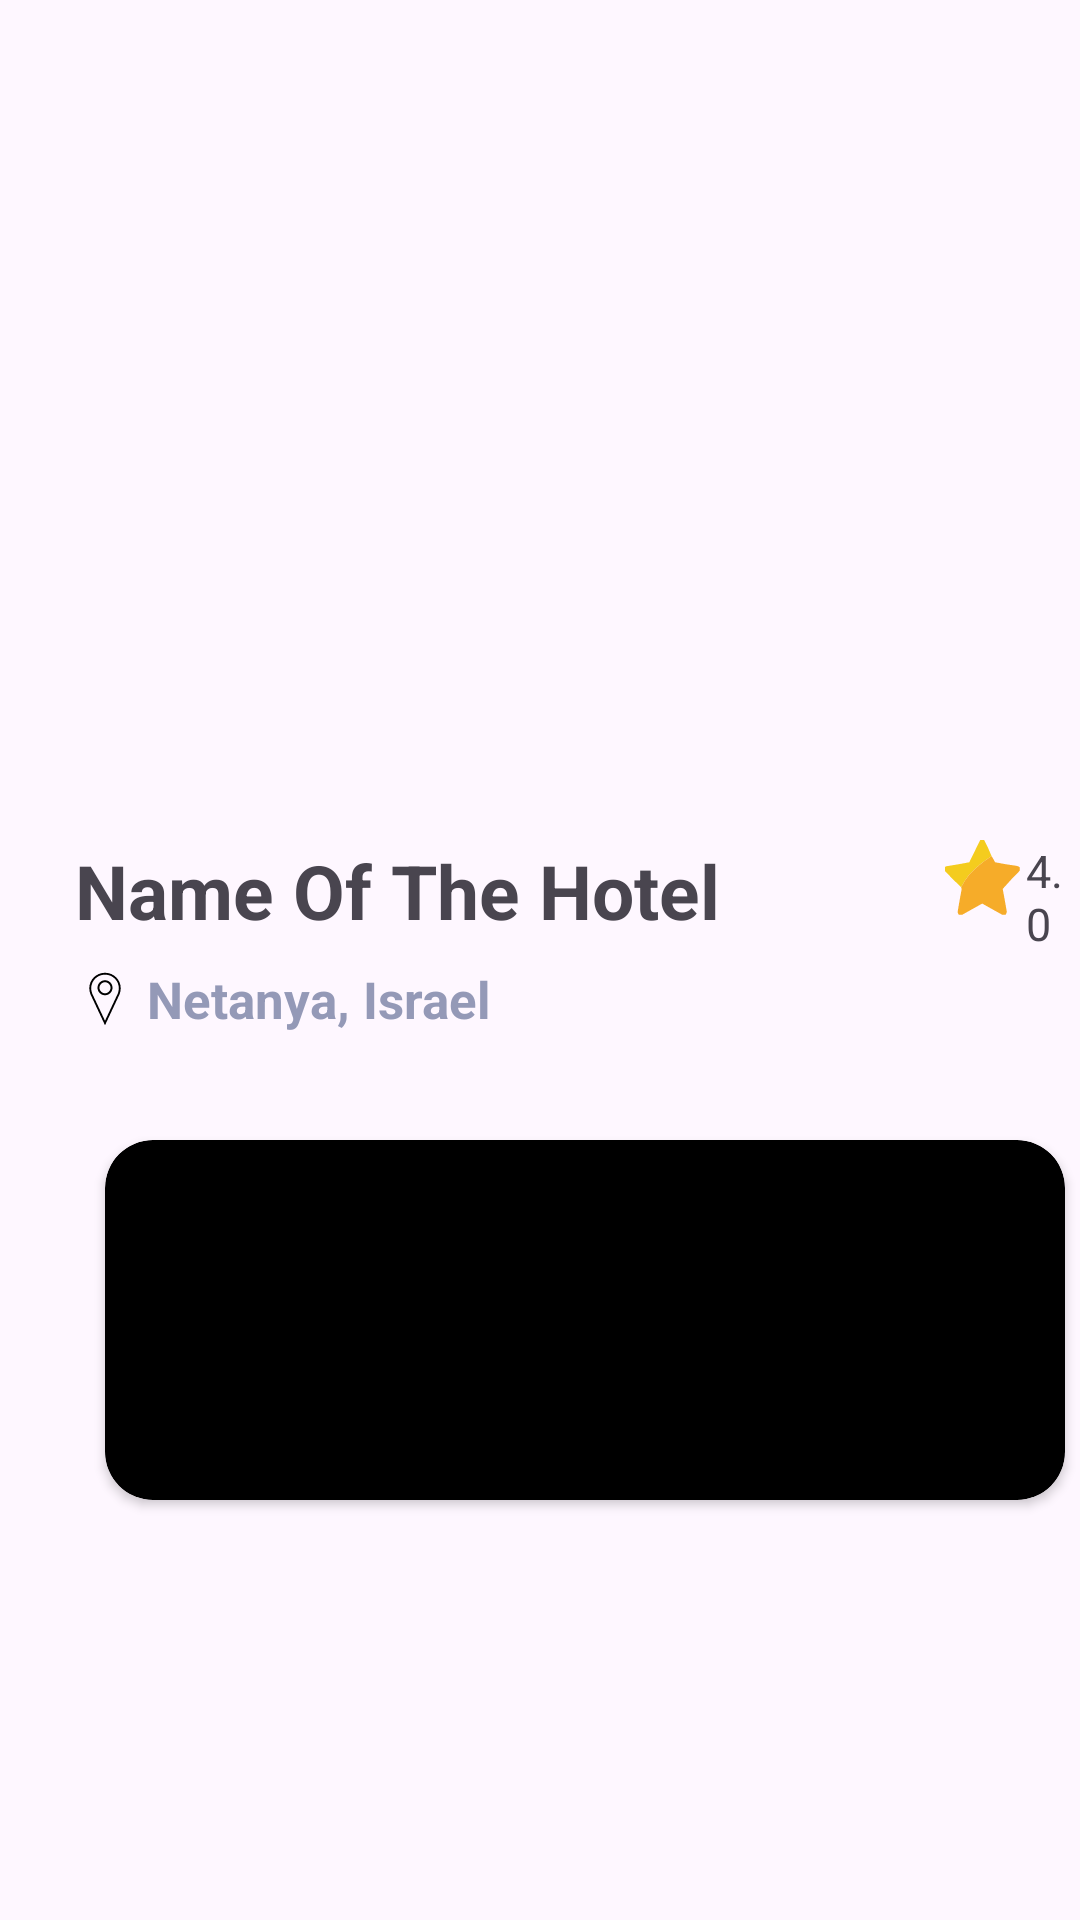

Named icons in this screenshot (1080px×1920px) and their bounding boxes, (x1, y1, x2, y2):
star: (945, 840, 1020, 915)
